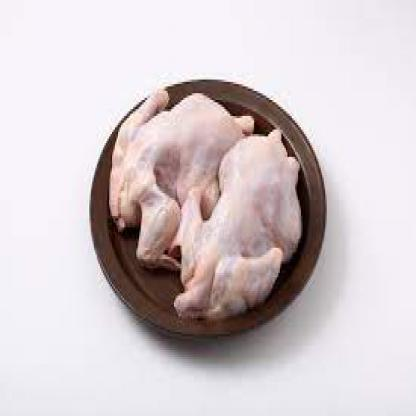chicken: (117, 98, 302, 307)
